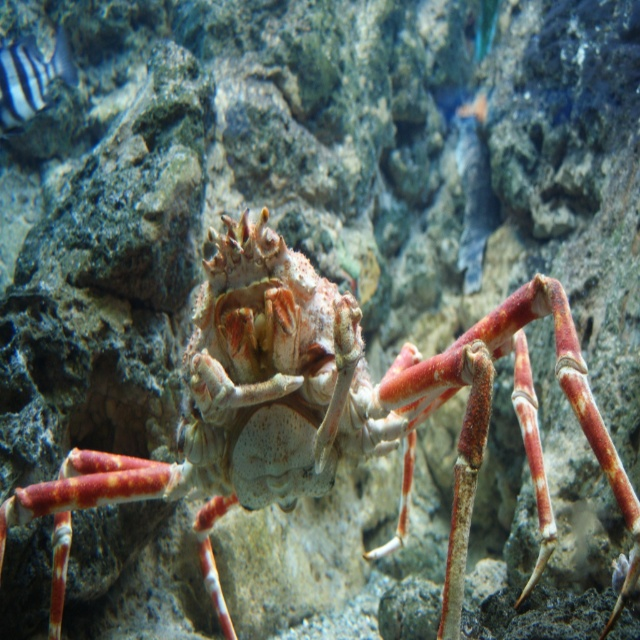Crab: (0, 207, 640, 639)
